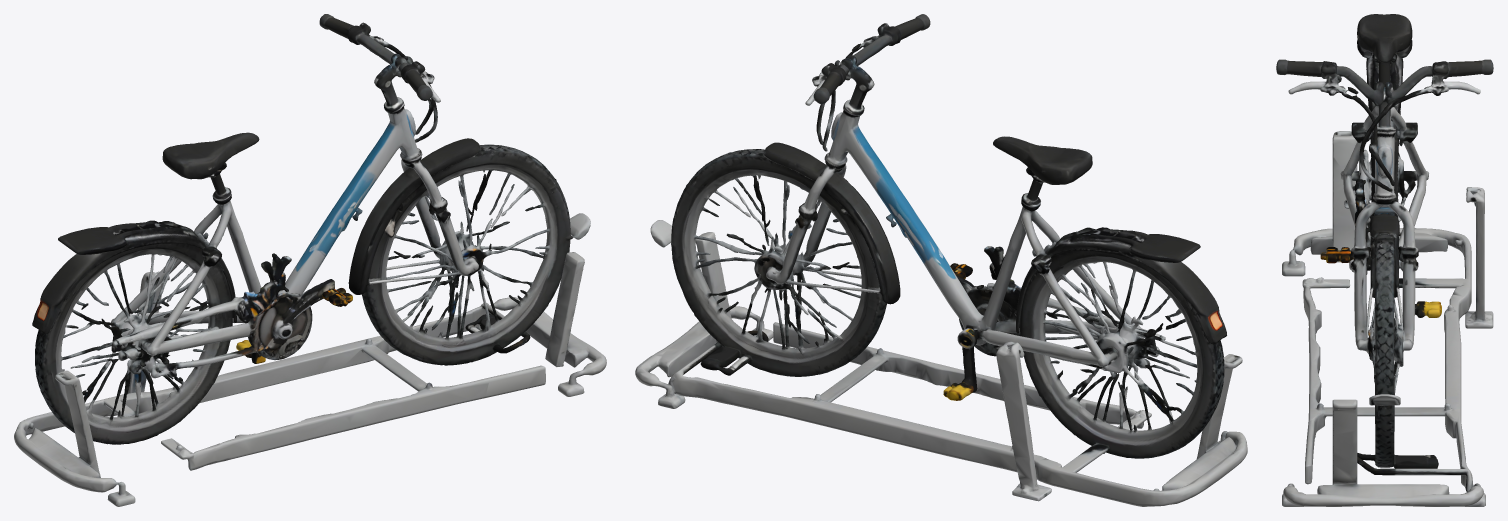
Rendered from plaza-bike-rack.glb.
The picture shows the model from 3 angles, left to right: view 1: azimuth 30°, elevation 25°; view 2: azimuth 150°, elevation 25°; view 3: azimuth 270°, elevation 25°; orthographic projection. The views are drawn at different scales.
Visible parts, largest first — view 1: tripo_node_469f1ae3-150d-4368-baa9-820cde73eb8d; view 2: tripo_node_469f1ae3-150d-4368-baa9-820cde73eb8d; view 3: tripo_node_469f1ae3-150d-4368-baa9-820cde73eb8d.
Part boxes in pixels (box(x1,y1,x2,y2)): tripo_node_469f1ae3-150d-4368-baa9-820cde73eb8d: box(14, 14, 606, 506); tripo_node_469f1ae3-150d-4368-baa9-820cde73eb8d: box(635, 14, 1247, 506); tripo_node_469f1ae3-150d-4368-baa9-820cde73eb8d: box(1276, 14, 1493, 506).
Size of the model in its own units: 1.97 by 1.2 by 0.6413.
Materials: 1 (1 with a texture image).
